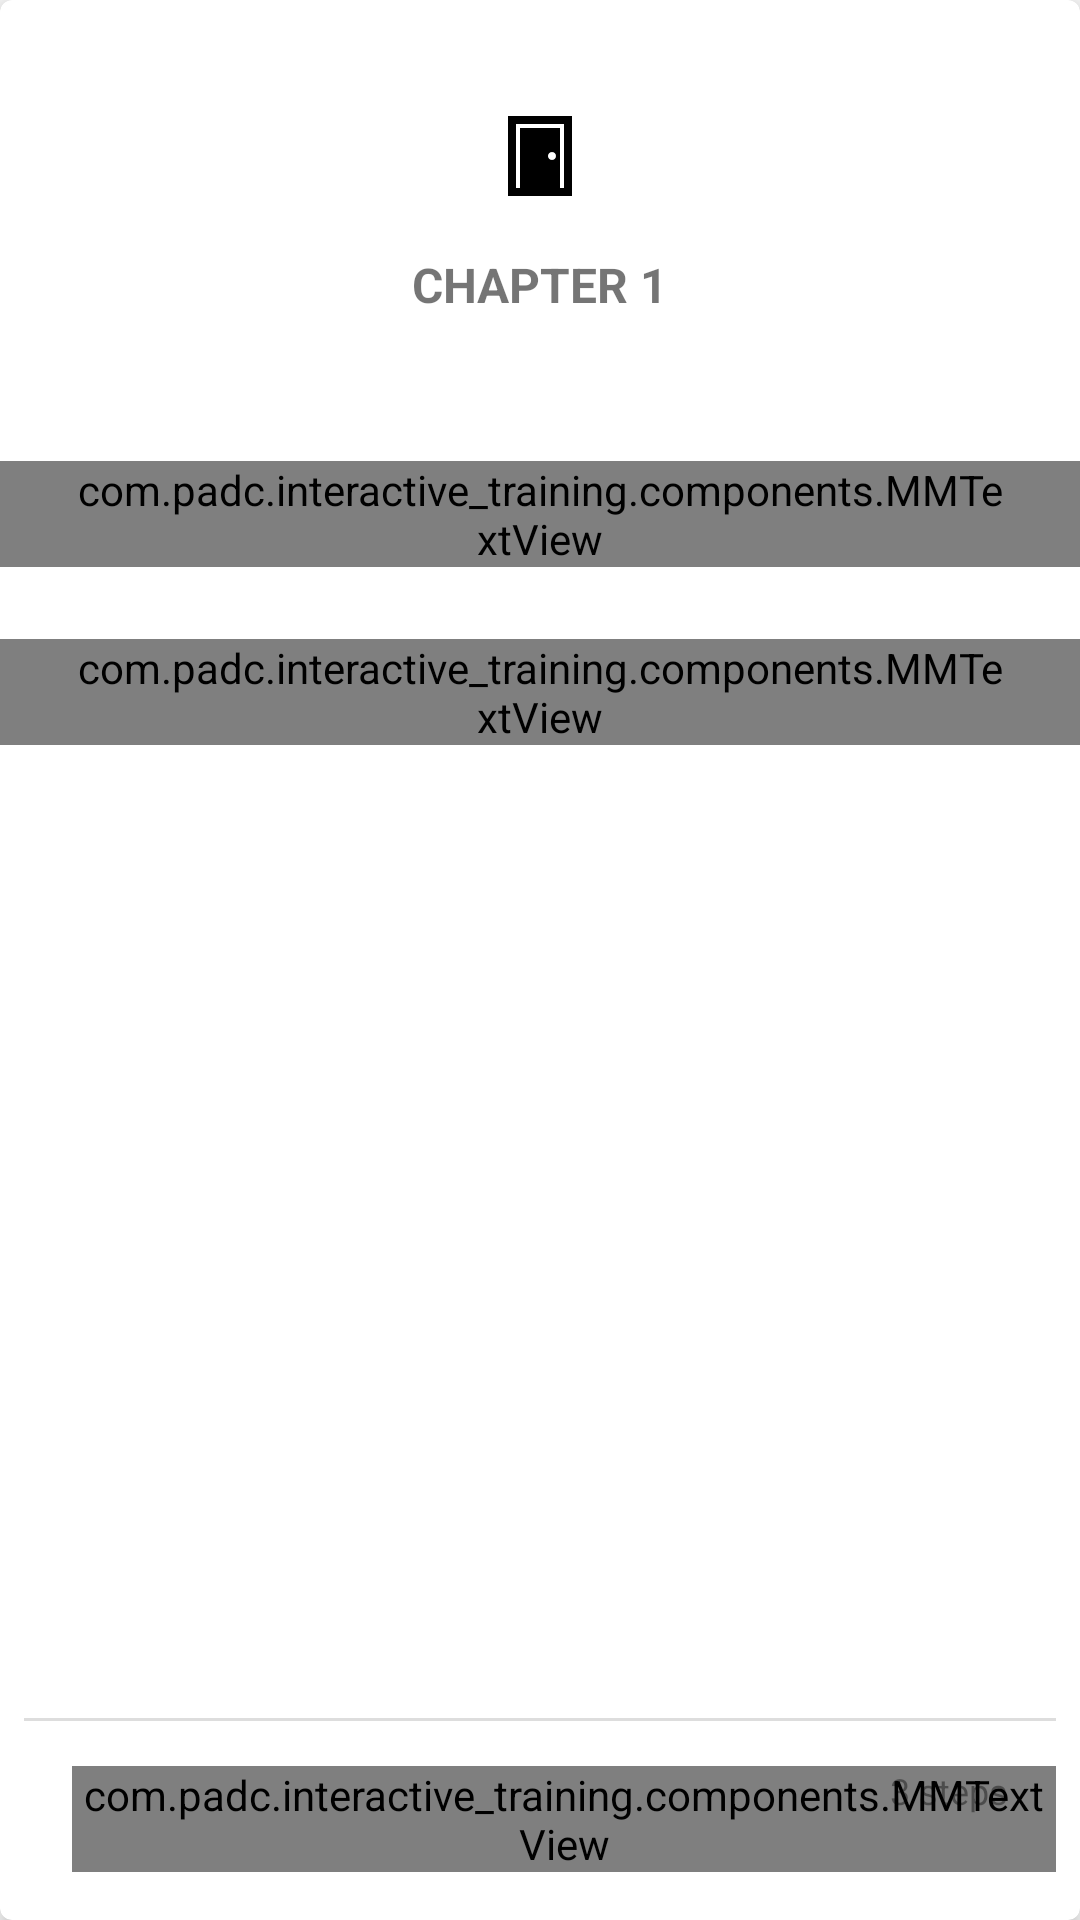

Locate icon controls on the screen. Image size 1080 x 1920, boxes as (x1, y1, x2, y2).
door: (508, 116, 572, 196)
